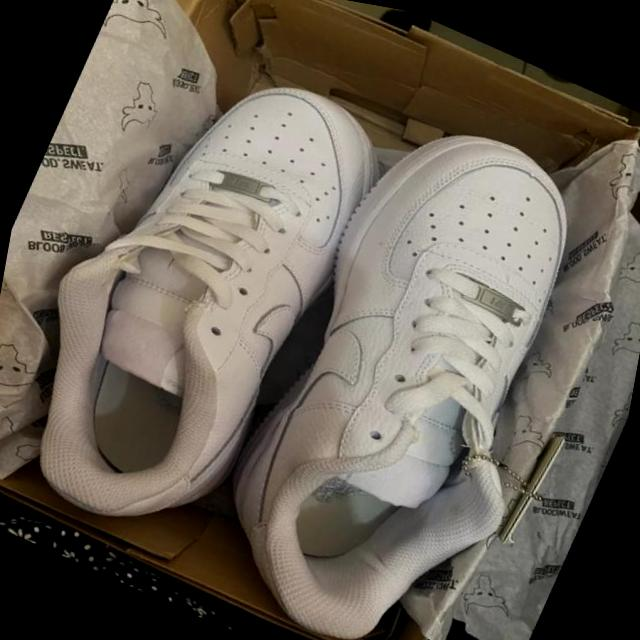nike_fake_airforce: (179, 73, 640, 640), (0, 3, 411, 622)
